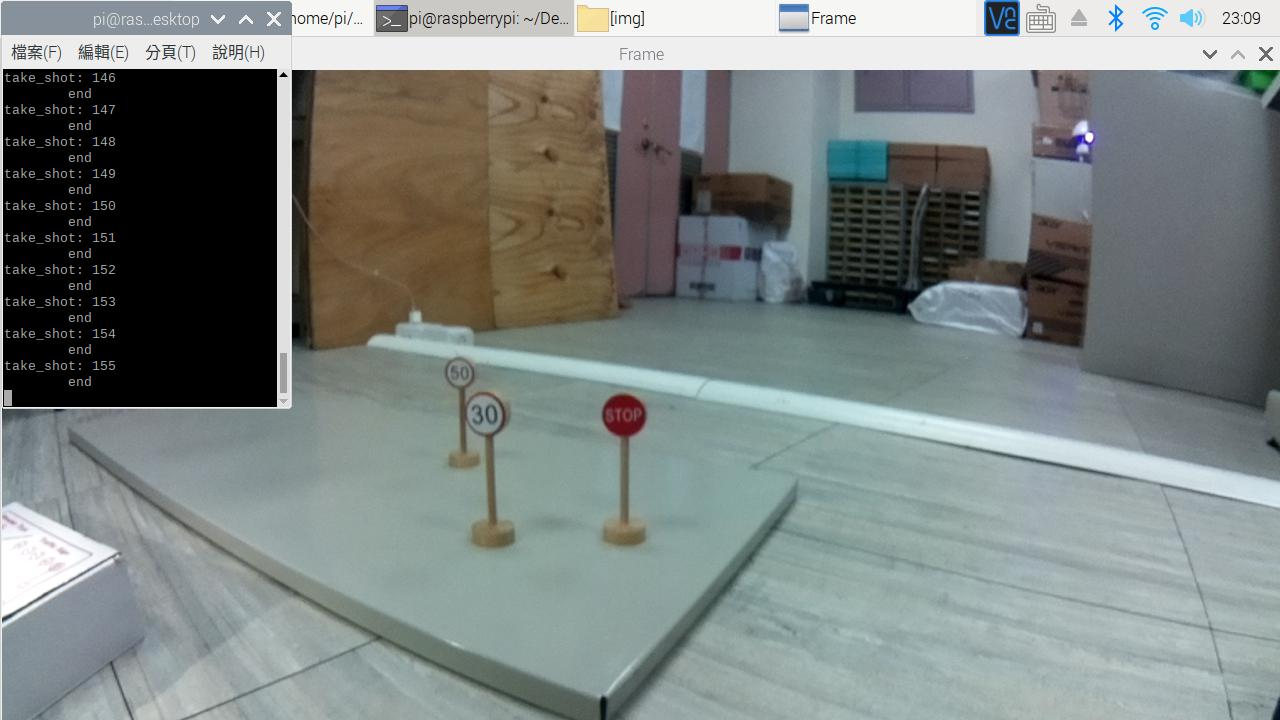Speed30: (459, 390, 526, 441)
Speed50: (429, 356, 490, 392)
Stop: (591, 387, 665, 447)
